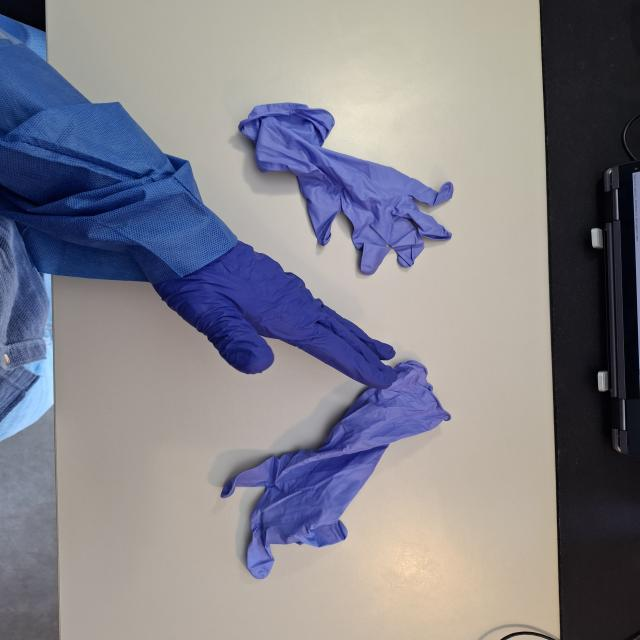glove_on: (144, 234, 402, 391)
